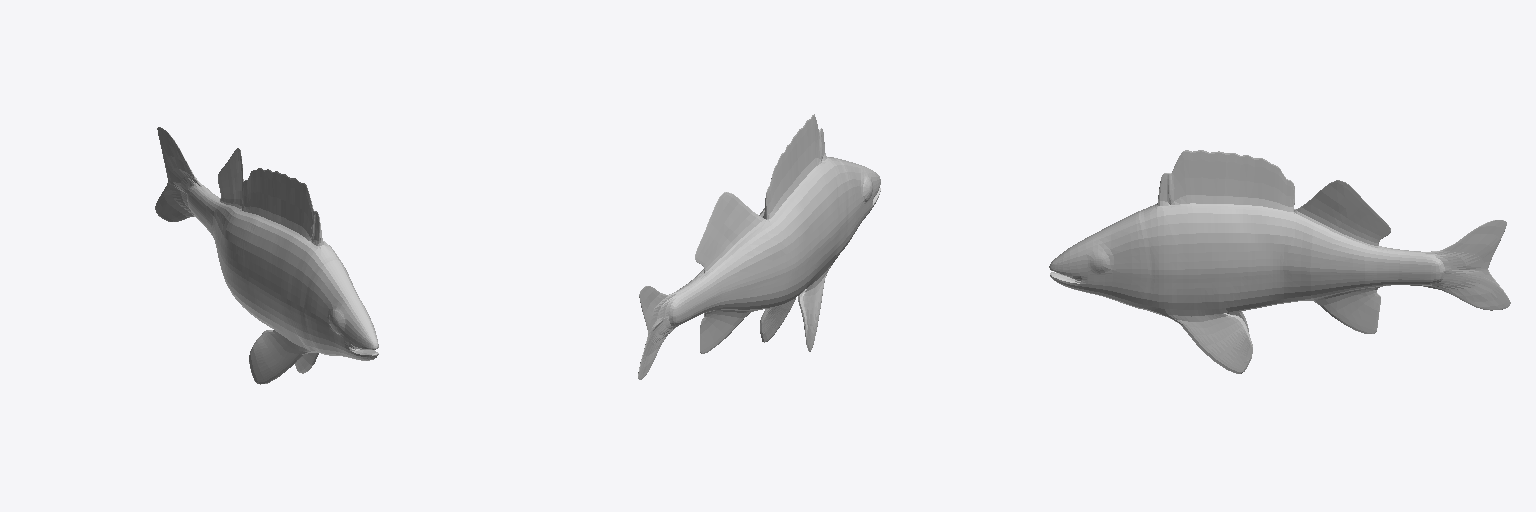
The model's file is bass.obj.
3 views of the same model, side by side, from view 1: azimuth 30°, elevation 25°; view 2: azimuth 150°, elevation 25°; view 3: azimuth 270°, elevation 25° (orthographic).
Parts seen in each view (by area): view 1: Cube_Cube.002; view 2: Cube_Cube.002; view 3: Cube_Cube.002.
Part boxes in pixels (bbox=[...]): Cube_Cube.002: bbox=[155, 127, 378, 384]; Cube_Cube.002: bbox=[638, 114, 880, 379]; Cube_Cube.002: bbox=[1049, 150, 1510, 373].
Bounding box in the file's own units: 0.4021 × 1.53 × 2.99.